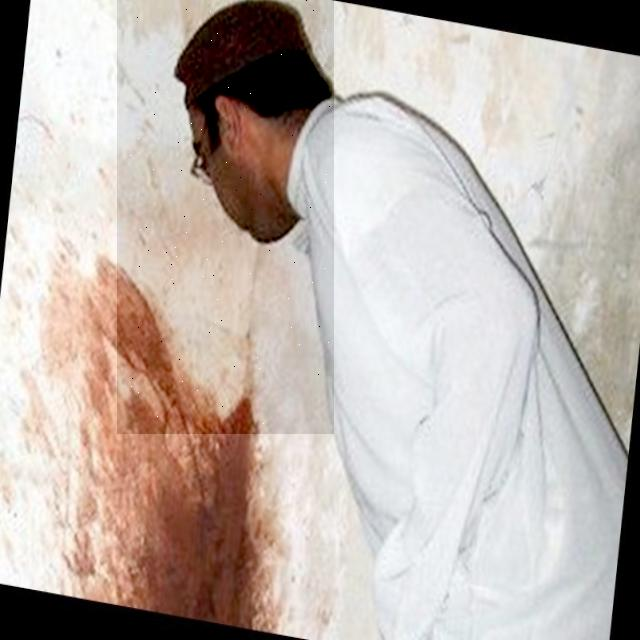Spitting: (117, 0, 334, 434)
